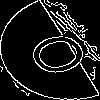O: (25, 25, 100, 80)
